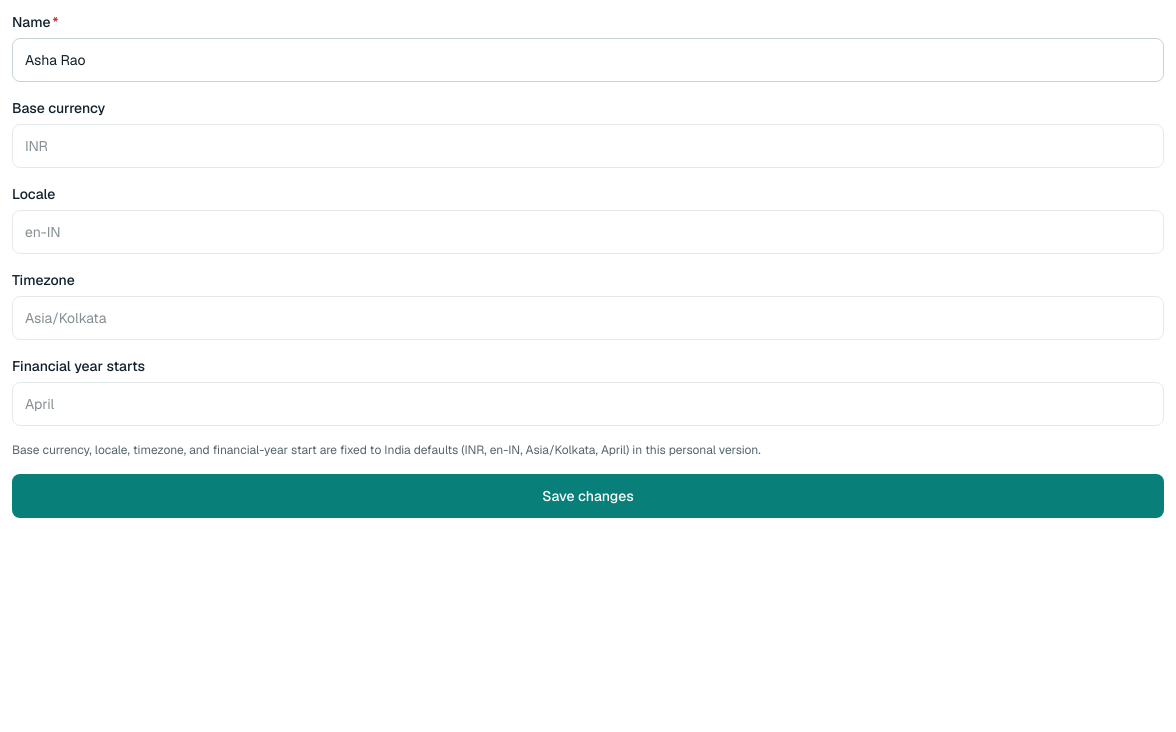
Test: ProfileForm › shows a success toast after a successful update
This screenshot has width=1176, height=732.
Replace the text in the field labelled "Name" with "New Name" at x=588, y=60, box [12, 38, 1164, 82]
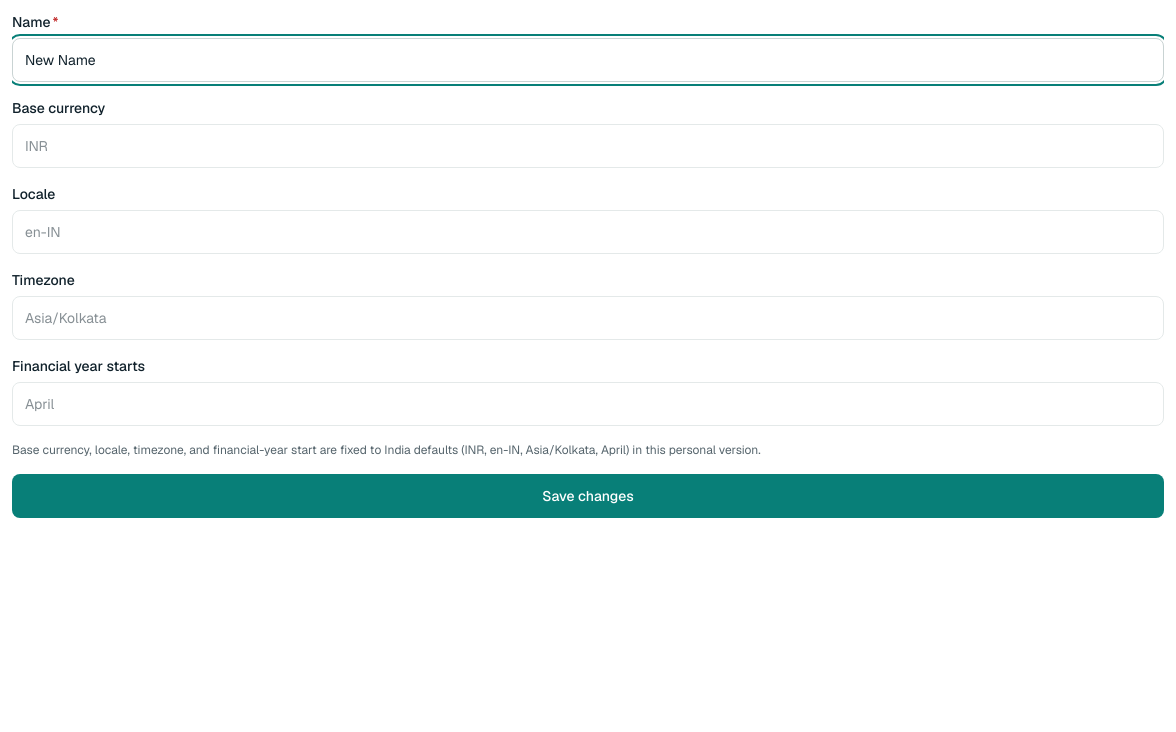
Click the button "Save changes" at x=588, y=496, box [12, 474, 1164, 518]
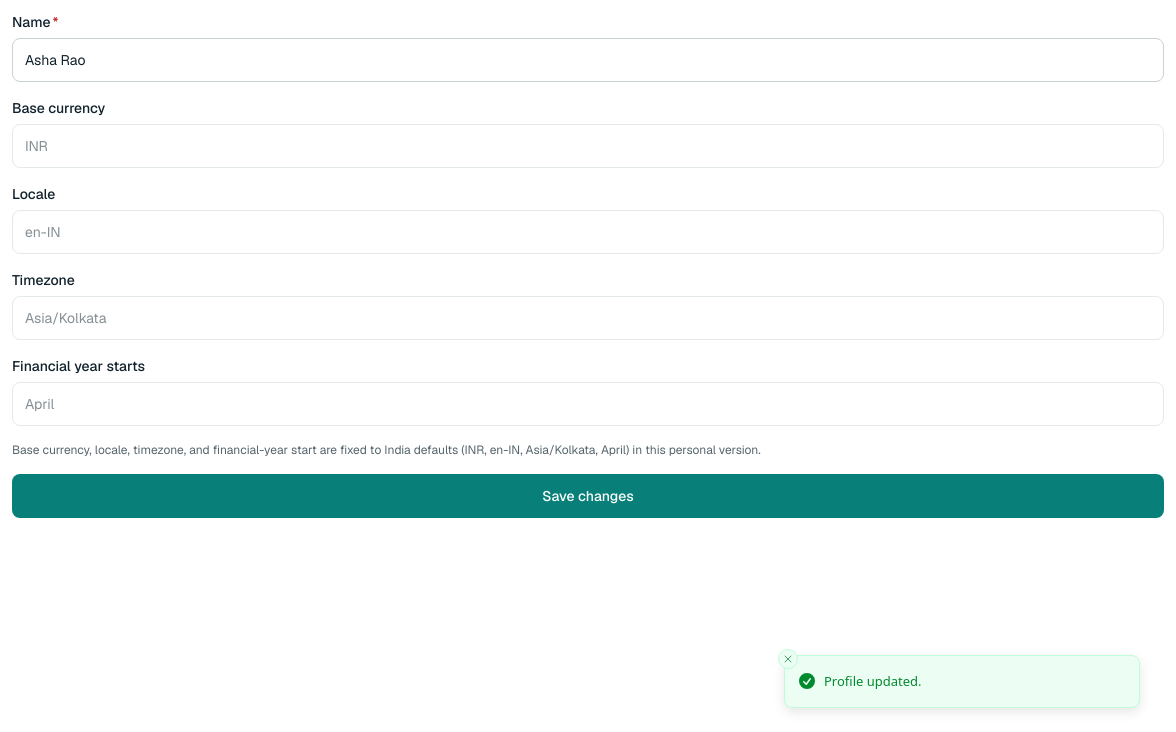
Now the text "Profile updated." is shown, box [824, 672, 922, 691]
